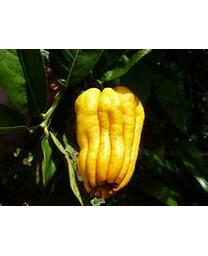lemon: (74, 84, 145, 198)
